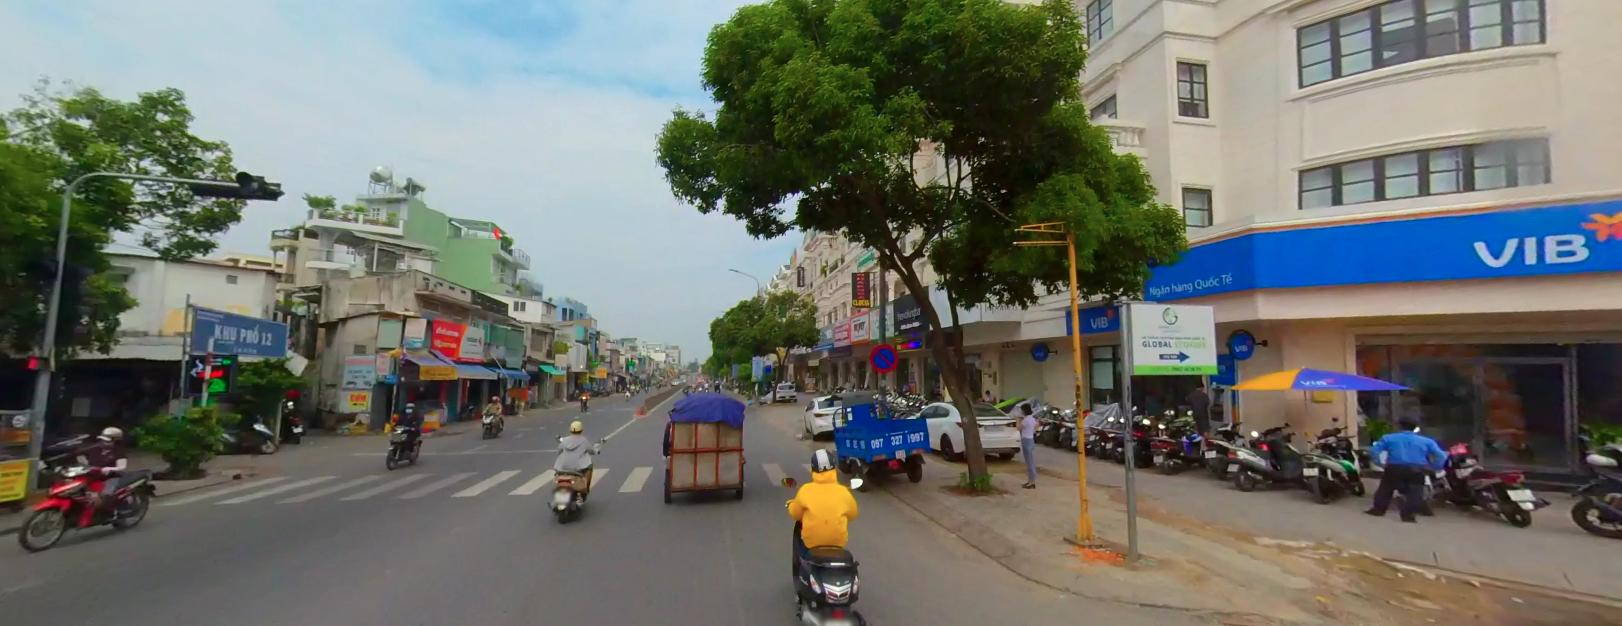Cam dung va do: (869, 342, 897, 371)
